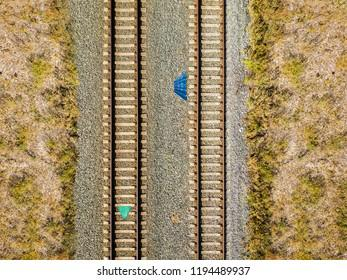Color_steel: (172, 71, 189, 104)
Dust_screen: (113, 203, 135, 223)
